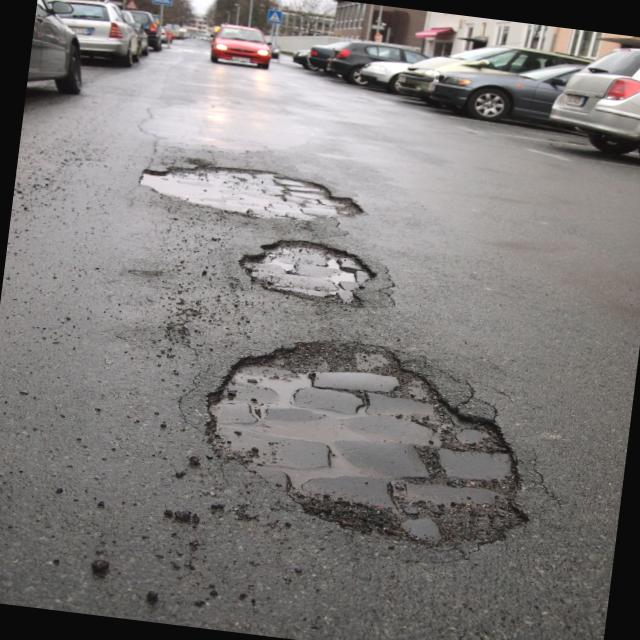bad-road: (188, 322, 550, 568), (137, 150, 365, 227), (232, 230, 380, 314)
